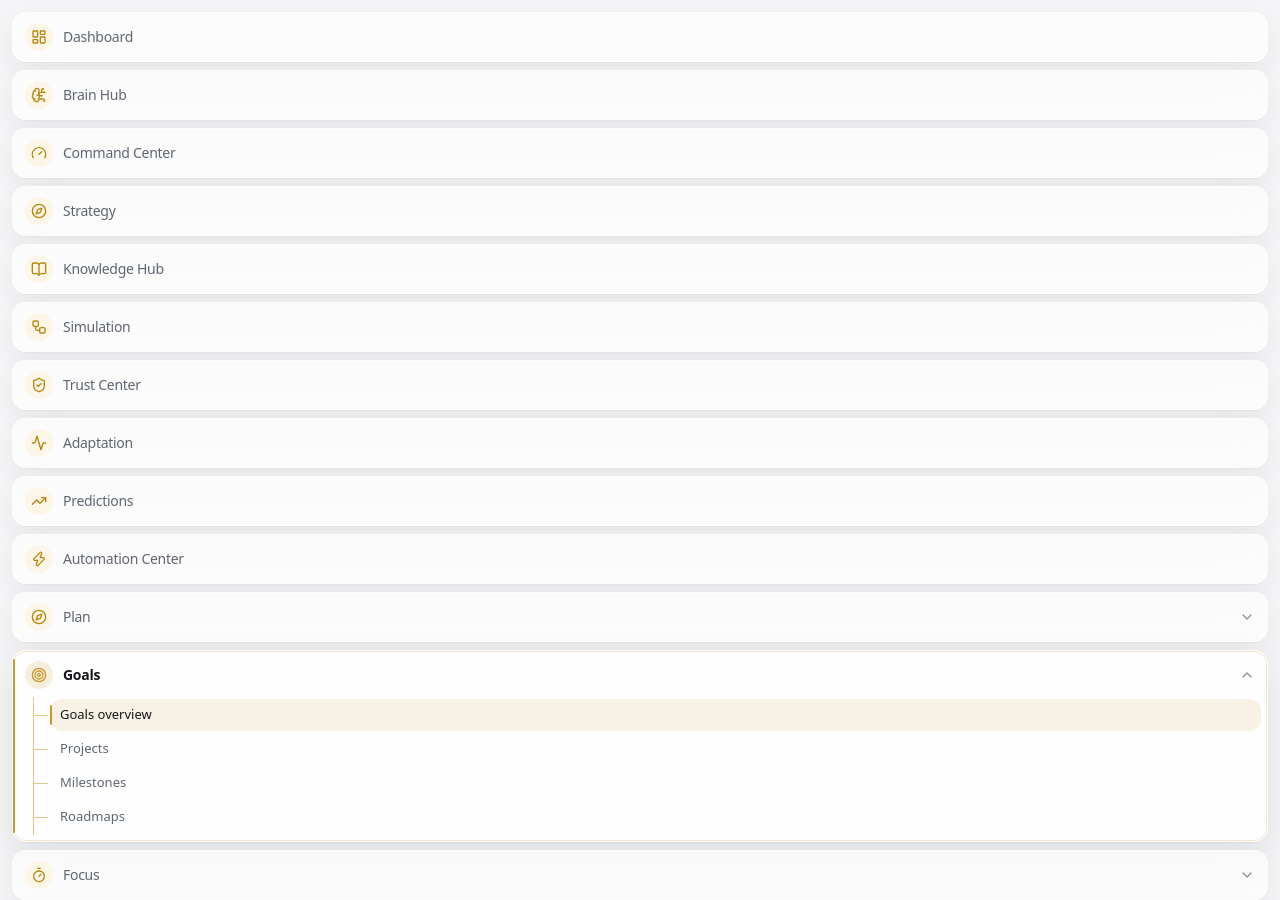
Test case: SidebarNav › toggles a module's submenu open and closed on click
Click the button "Focus": x=81, y=874 [19, 857, 1261, 893]
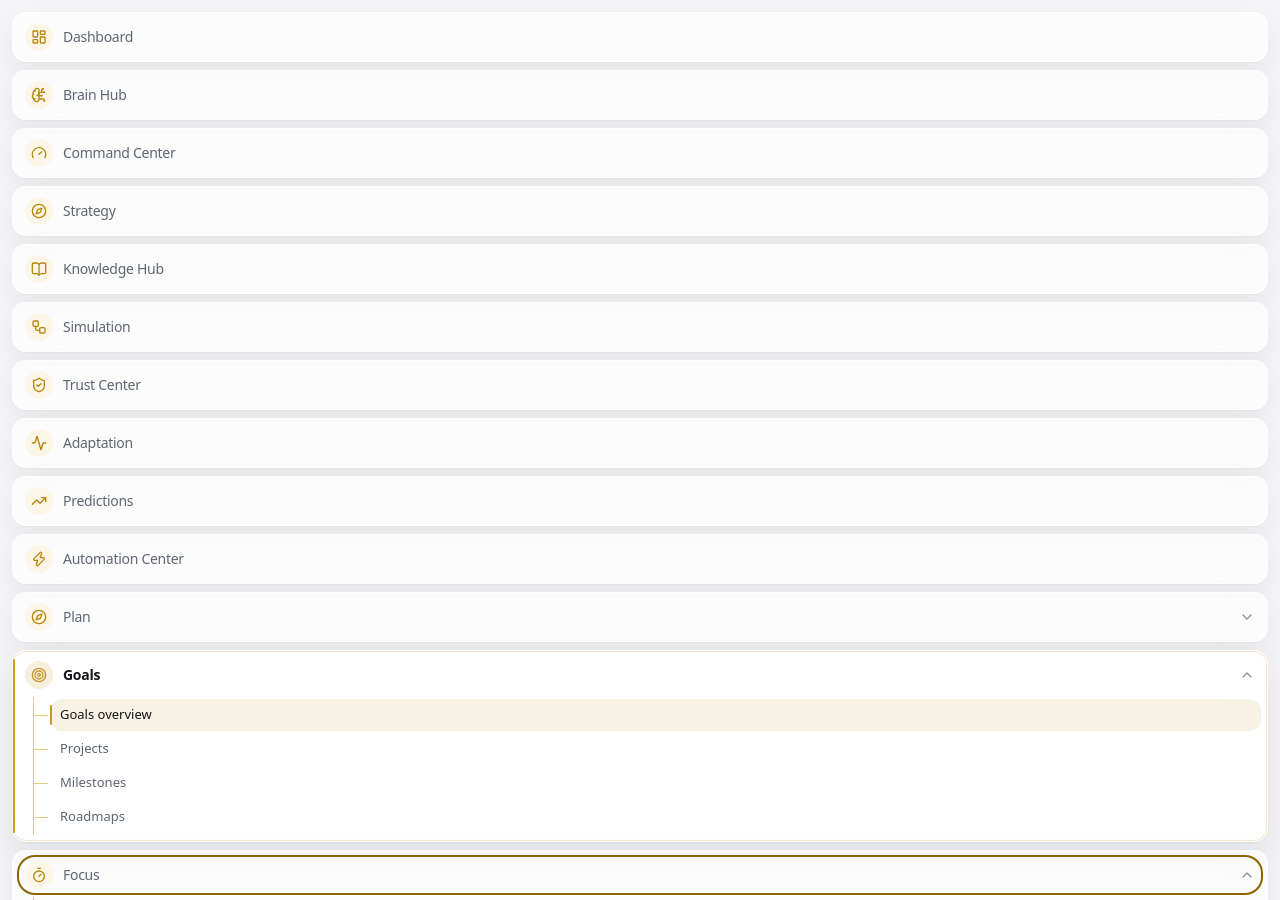
Now the button "Focus" is expanded
Click the button "Focus": x=81, y=874 [19, 857, 1261, 893]
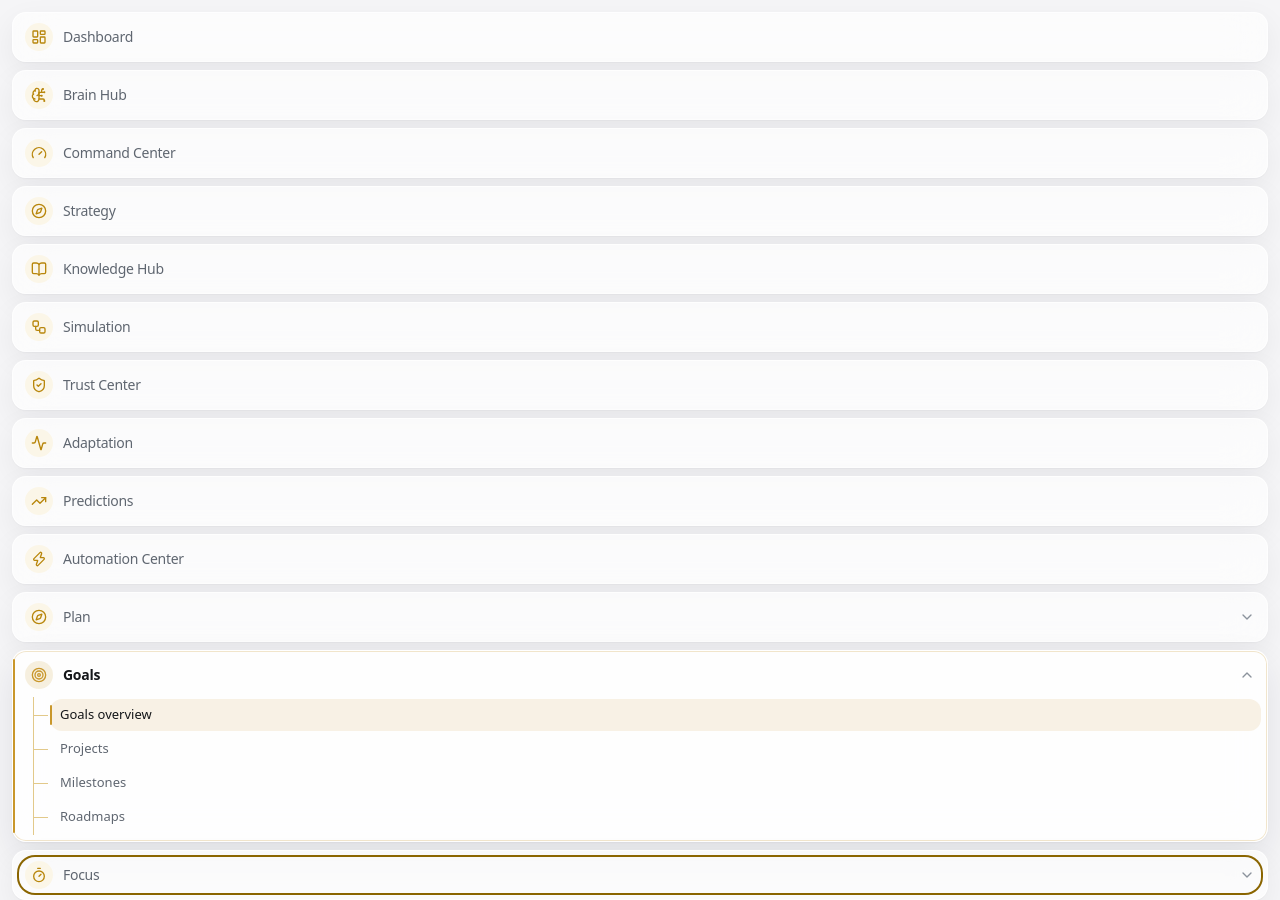
Now the button "Focus" is collapsed, box [19, 857, 1261, 893]
